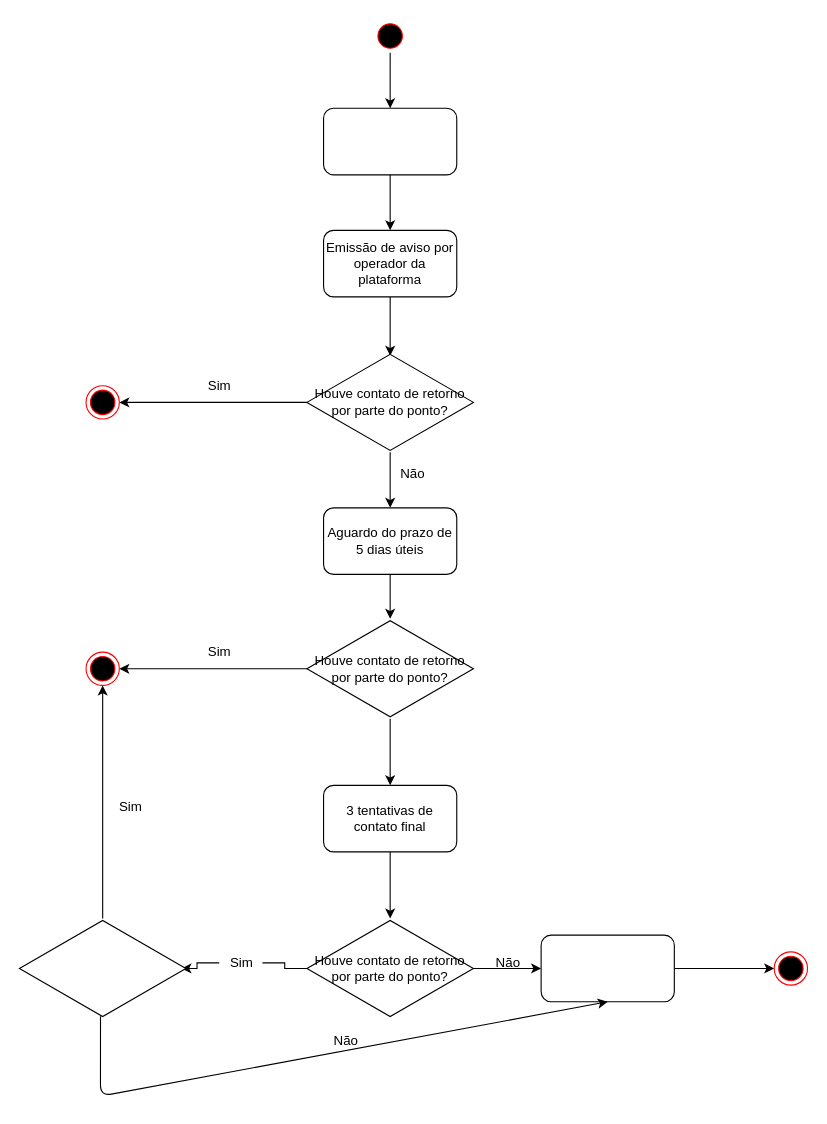
Some shapes in this 827 by 1124 pixel diagram are drawn without their labels. Here are the shapes that lost their labels. From the top down, the box of each, then its label:
(322, 107, 457, 175): Sequencia de ocorrências apontada
(18, 917, 186, 1018): Recurso aceito?
(540, 934, 674, 1002): Cadastro cancelado
